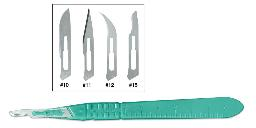scalpel: (10, 96, 244, 122)
